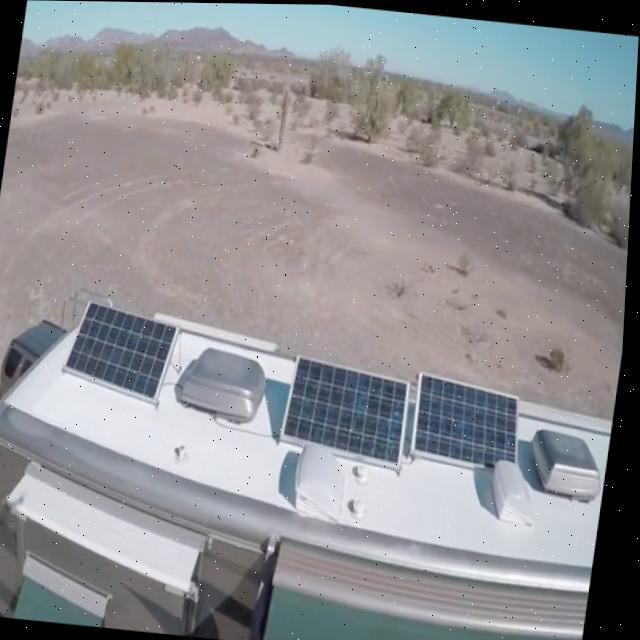Normal Solar Panel: (282, 355, 417, 465), (64, 300, 184, 400), (416, 372, 532, 463)
